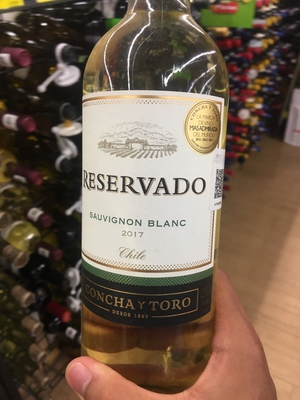reservado sauvignon blanc: (73, 10, 238, 399)
